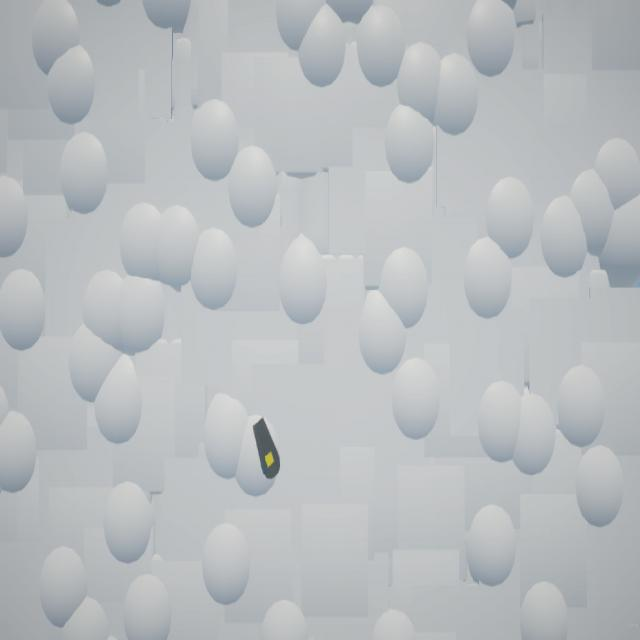handle_folk: (253, 418, 281, 481)
